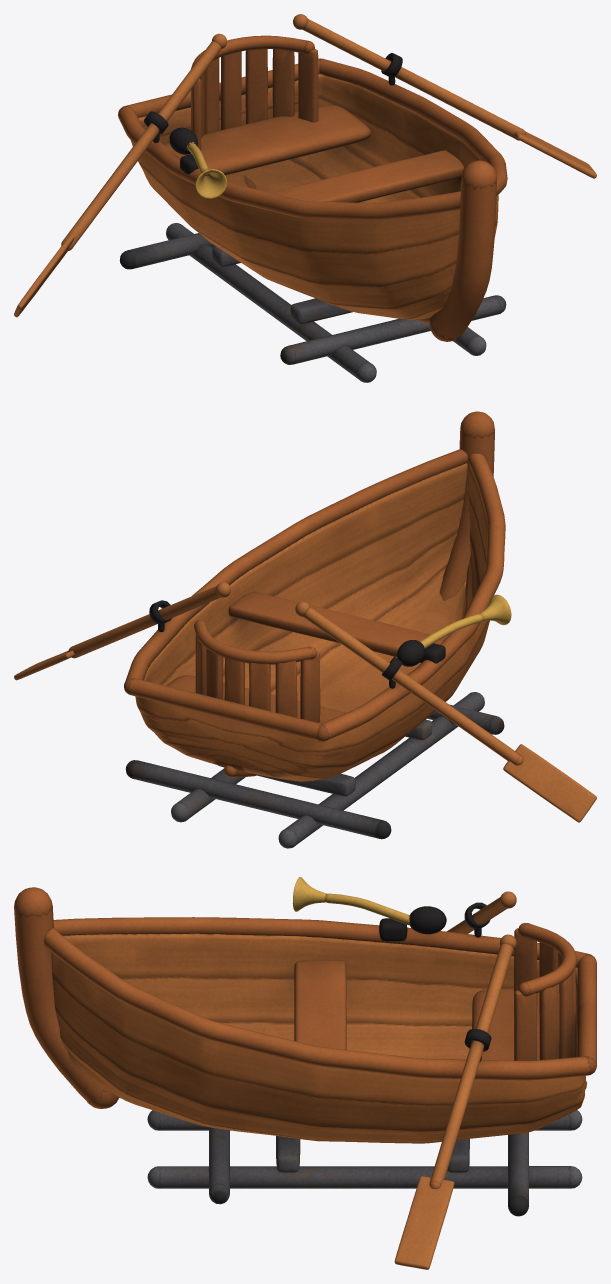
The picture shows the model from 3 angles, top to bottom: view 1: azimuth 30°, elevation 25°; view 2: azimuth 150°, elevation 25°; view 3: azimuth 270°, elevation 25°; orthographic projection. The views are drawn at different scales.
Visible parts, largest first — view 1: body, oar_L, oar_R, horn_bulb; view 2: body, oar_R, oar_L, horn_bulb; view 3: body, oar_L, oar_R, horn_bulb.
Boxes of the visible parts, box(x1,y1,x2,y2) form: body: box(118, 35, 507, 382); oar_L: box(293, 14, 596, 178); oar_R: box(14, 33, 227, 317); horn_bulb: box(169, 127, 197, 154); body: box(124, 411, 511, 848); oar_R: box(295, 601, 596, 822); oar_L: box(14, 582, 230, 680); horn_bulb: box(397, 640, 424, 666); body: box(14, 877, 596, 1216); oar_L: box(394, 934, 516, 1269); oar_R: box(447, 891, 516, 933); horn_bulb: box(409, 906, 446, 934).
Bounding box in the file's own units: 1.8 × 0.7365 × 1.44.
1 material, 1 textured.
